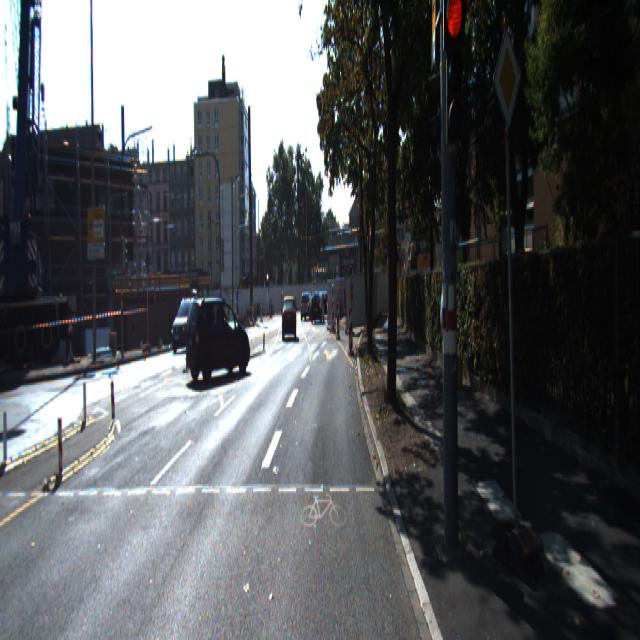Car: (181, 291, 252, 382), (170, 291, 205, 349), (281, 290, 295, 336)
